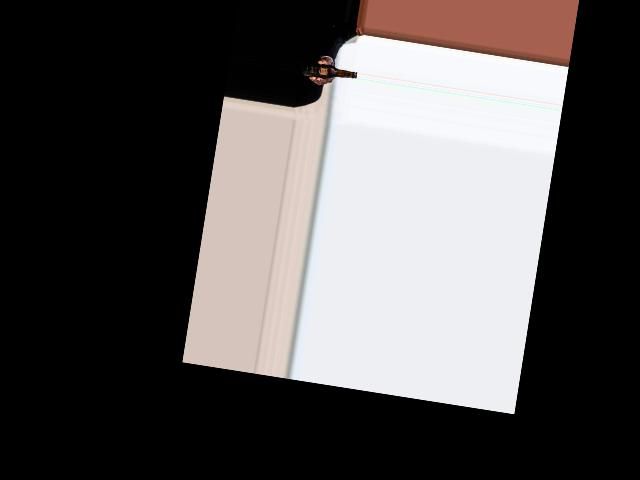beer: (300, 61, 357, 84)
